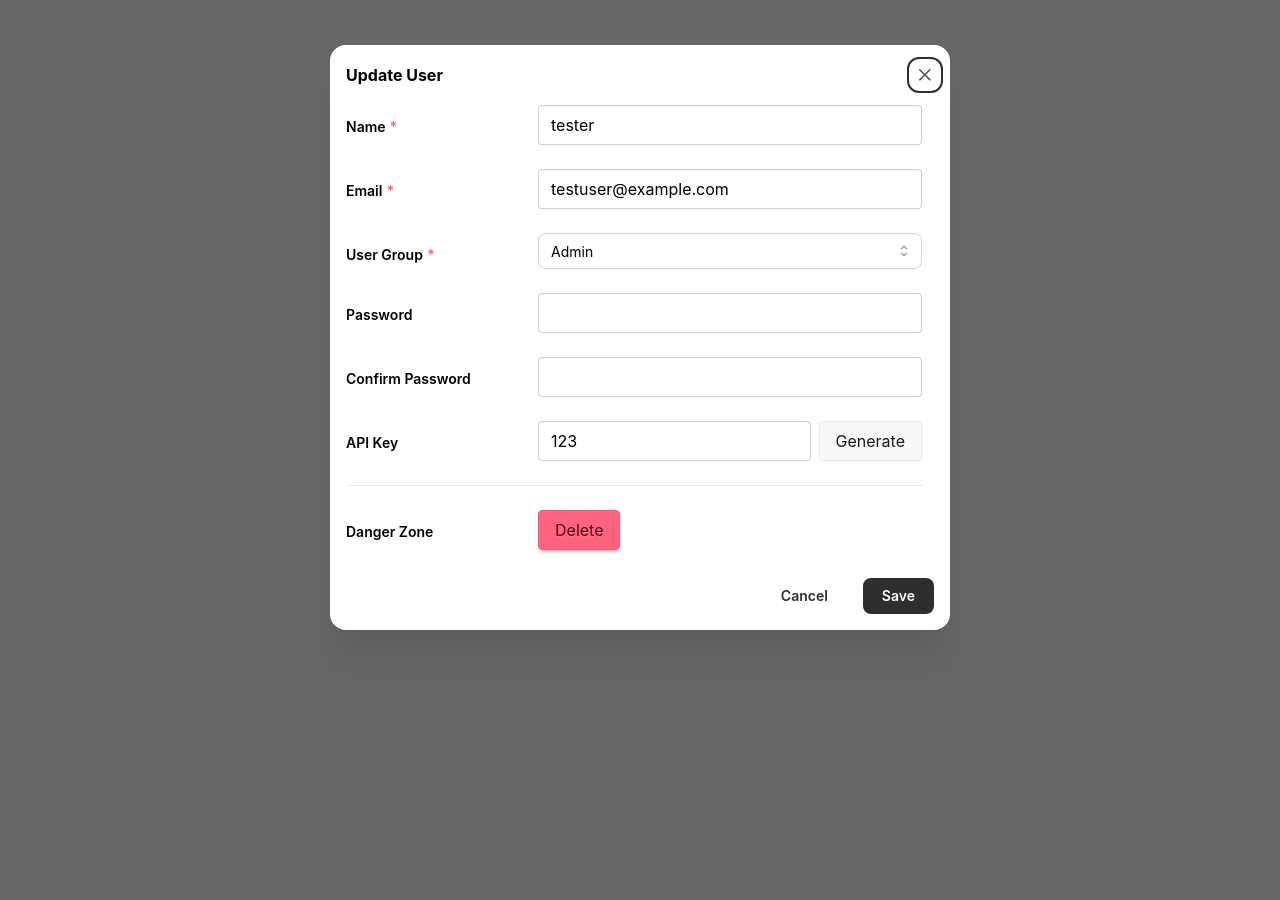
Test: UpdateUserDialog › should show the confirm dialog when user group change from admin to default and there is a api key
Expected: the field labelled "API Key" is enabled, [538,421,810,461]
Step 1. Click the field labelled "User Group*" → [730, 251], box [538,233,922,269]
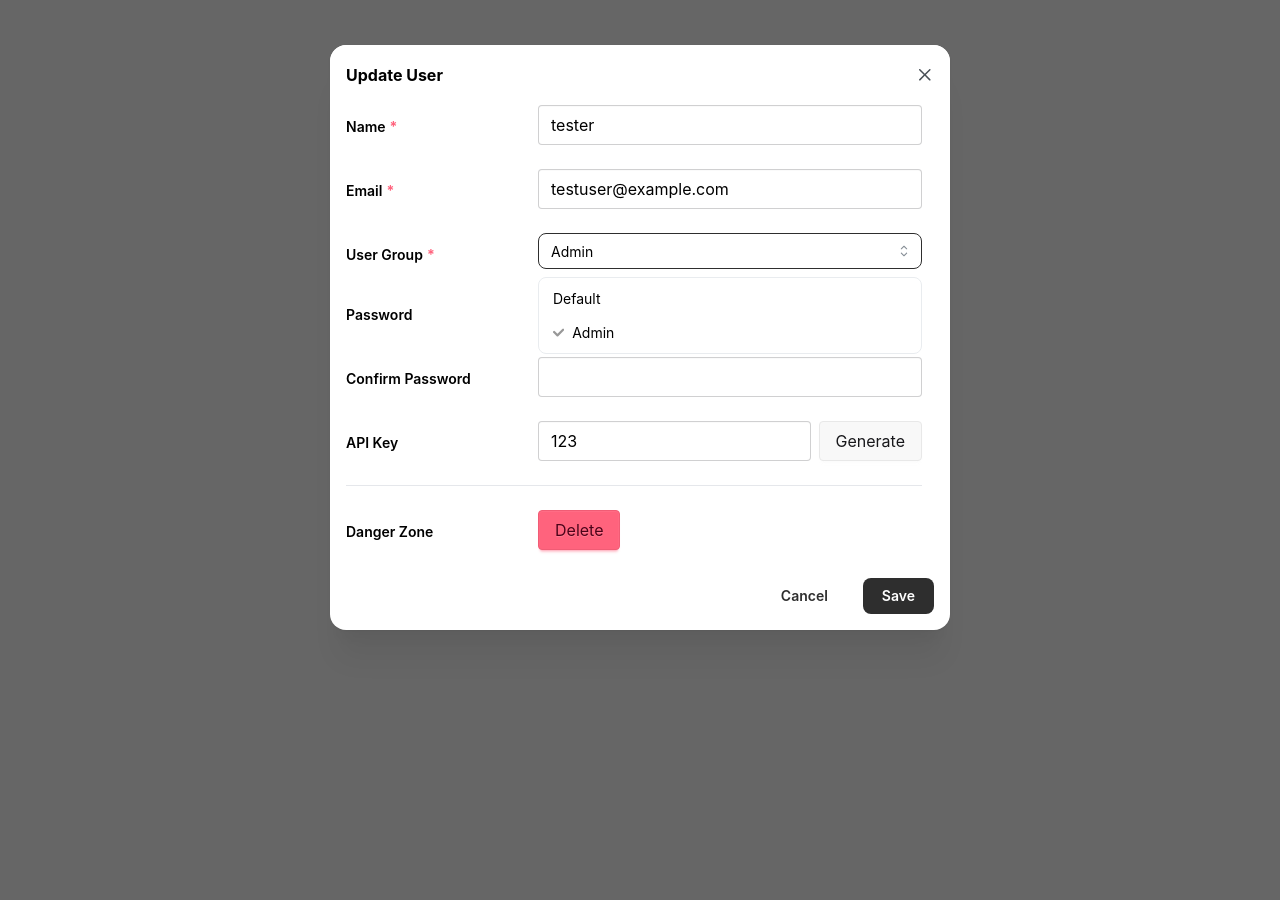
Step 2. Click the option "Default" → [577, 298], box [553,290,600,307]
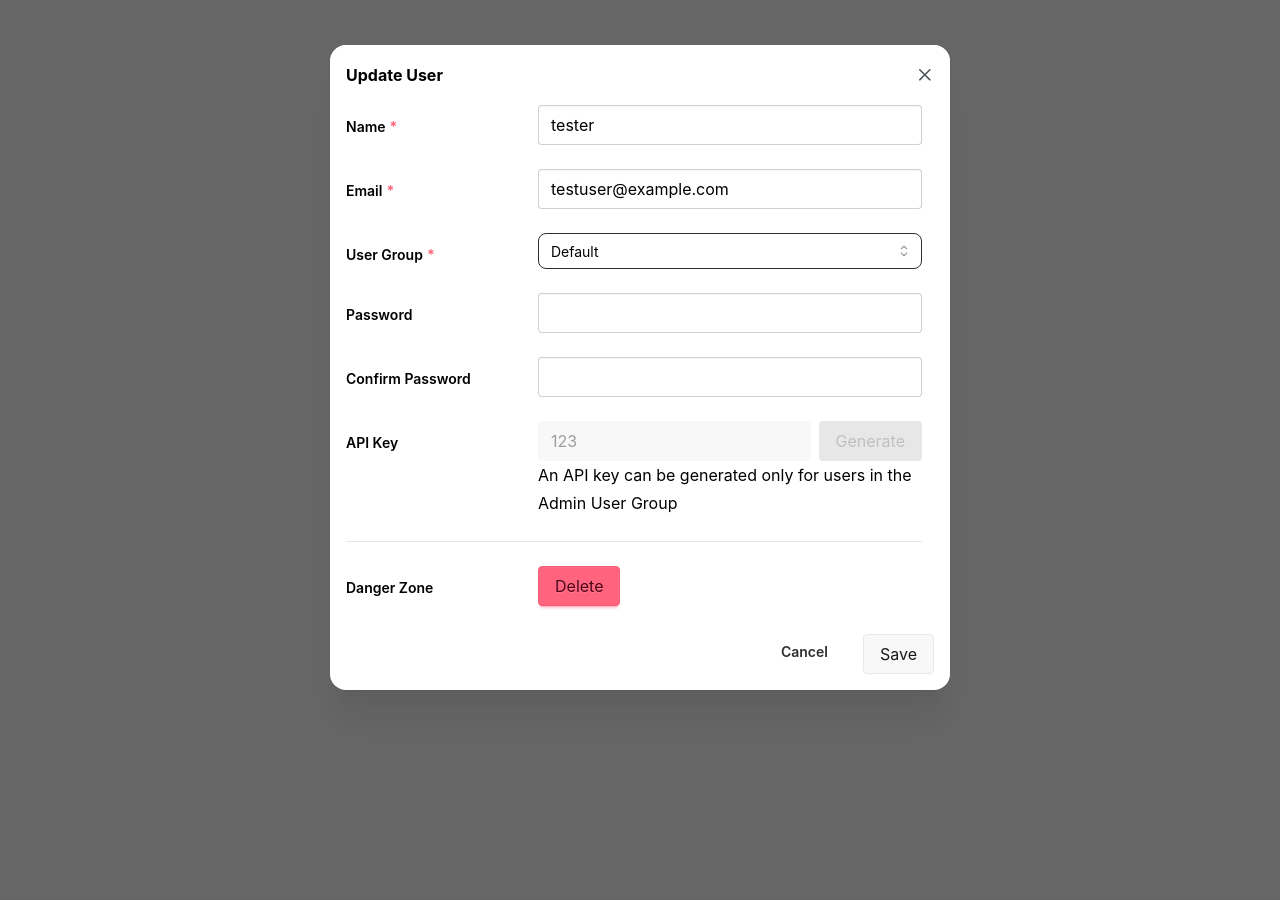
Step 3. Click the button "Save" → [898, 654], box [863,634,934,674]
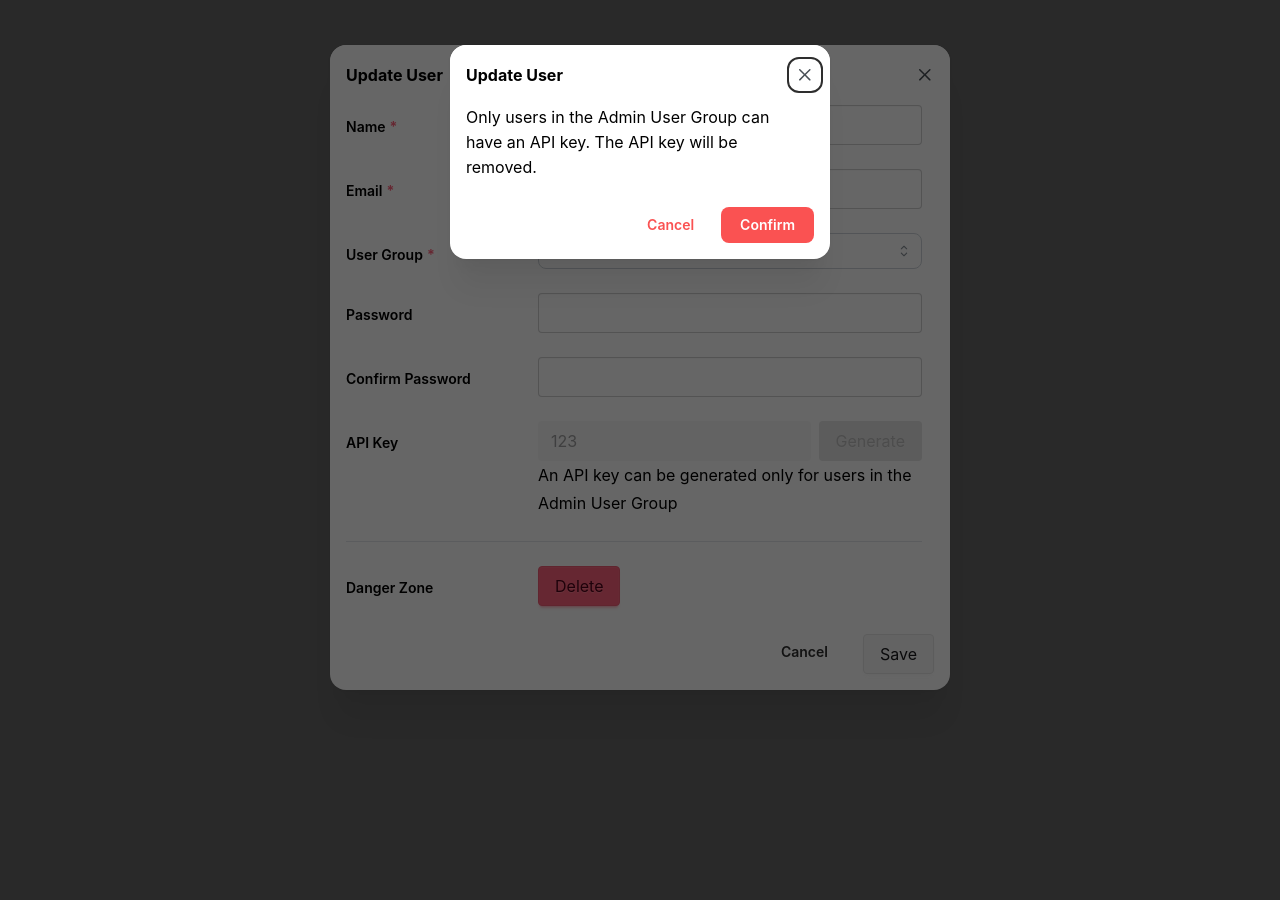
Expected: the text "Only users in the Admin User Group can have an API key. The API key will be removed." is shown, [466,107,769,177]
